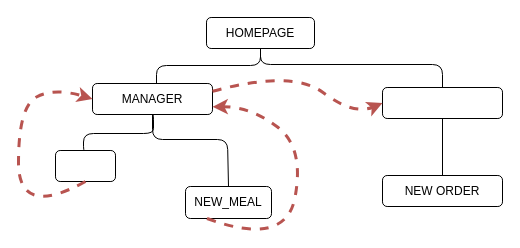
The diagram is 520 pixels wide and 248 high, and some of its shapes have lost their labels. Each missing label, with the centre of its shape:
EDIT: the point at 85,166
MENU: the point at 442,102
